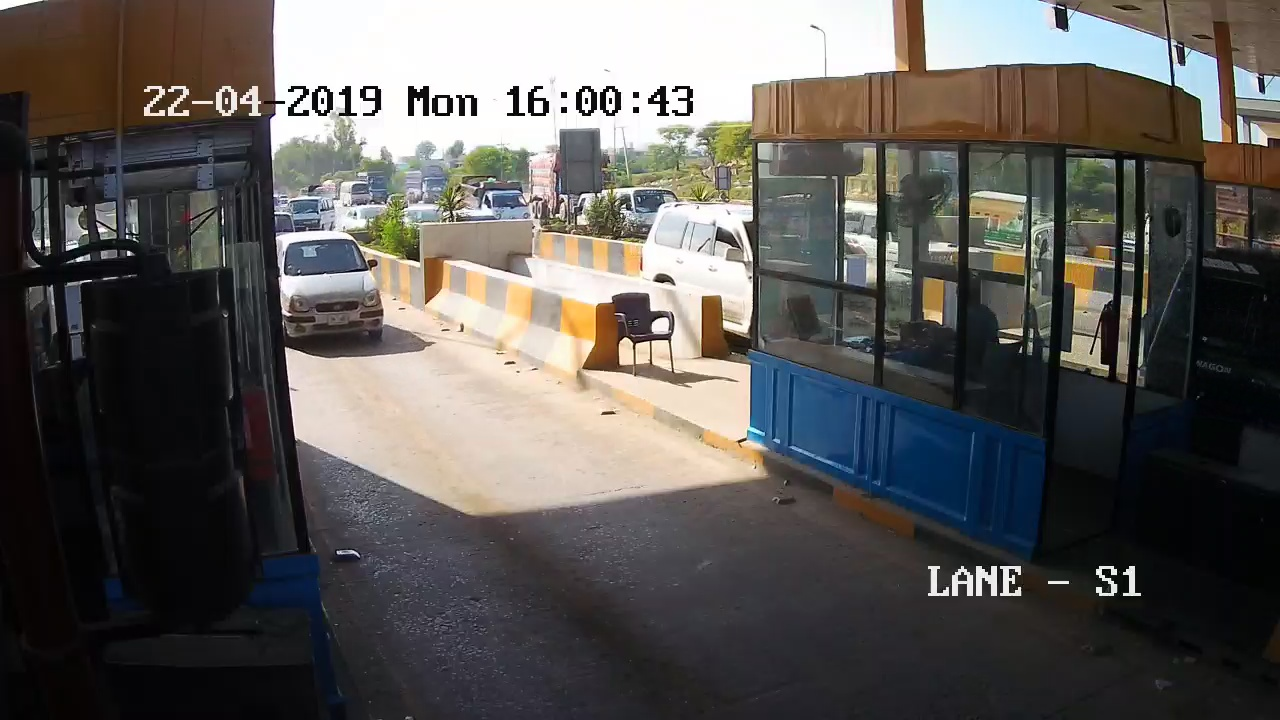car: (275, 228, 388, 352)
